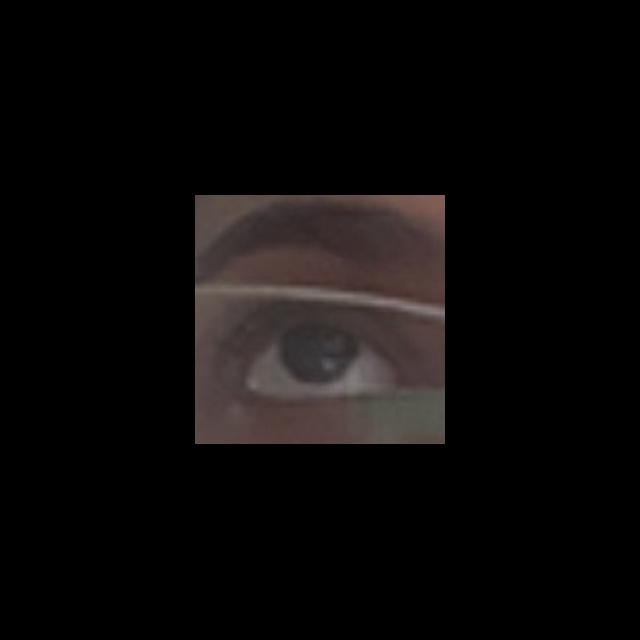eye: (249, 326, 396, 396)
iris: (278, 327, 357, 378)
